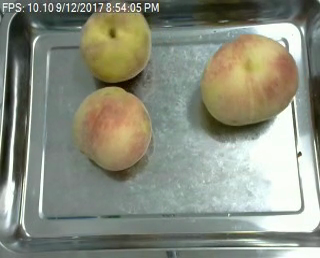Peach: (200, 33, 298, 126), (72, 84, 152, 171), (80, 2, 152, 82)
